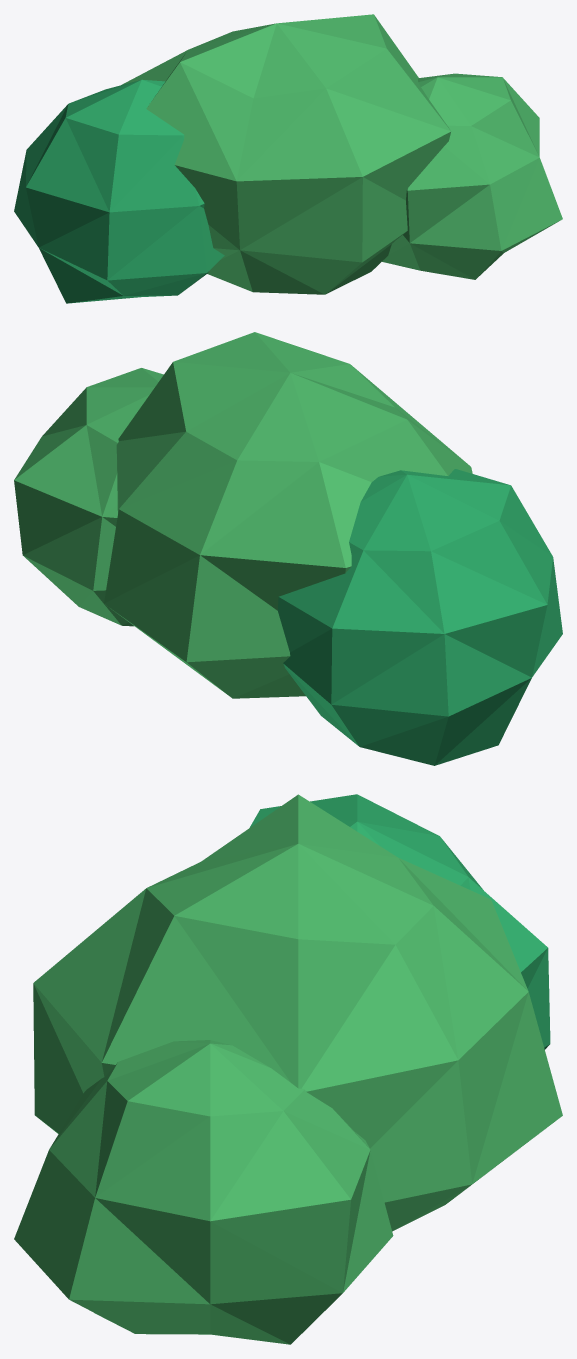
Rendered from bush_round.obj.
The picture shows the model from 3 angles, top to bottom: view 1: azimuth 30°, elevation 25°; view 2: azimuth 150°, elevation 25°; view 3: azimuth 270°, elevation 25°; orthographic projection. The views are drawn at different scales.
Bounding box in the file's own units: 2.82 × 1.52 × 1.87.
